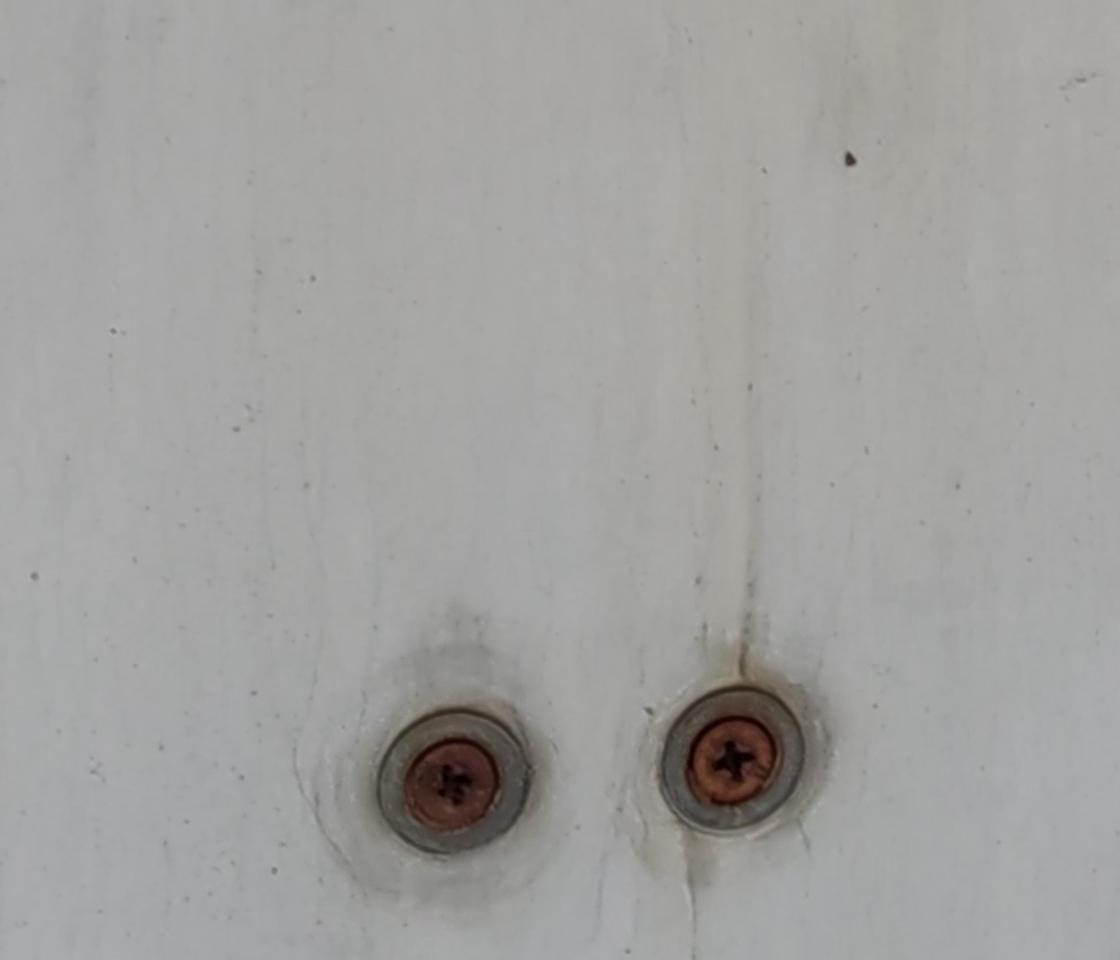rivet_damage: (363, 700, 541, 862), (660, 682, 819, 832)
